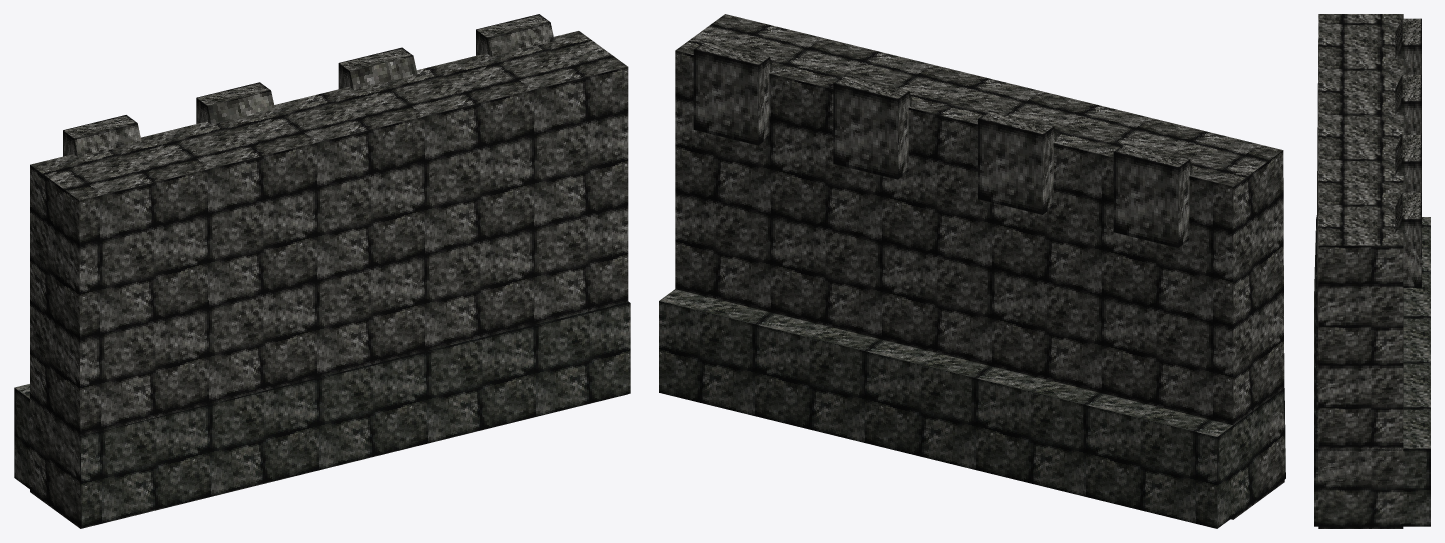
The model's file is StoneWall05.obj.
The picture shows the model from 3 angles, left to right: view 1: azimuth 30°, elevation 25°; view 2: azimuth 150°, elevation 25°; view 3: azimuth 270°, elevation 25°; orthographic projection. The views are drawn at different scales.
Visible parts, largest first — view 1: Mesh_0, Mesh_1; view 2: Mesh_0, Mesh_1; view 3: Mesh_0, Mesh_1.
Boxes of the visible parts, x1,y1,x2,y2 form: Mesh_0: [30, 14, 628, 528]; Mesh_1: [14, 301, 630, 527]; Mesh_0: [675, 14, 1284, 519]; Mesh_1: [659, 289, 1285, 528]; Mesh_0: [1316, 14, 1421, 528]; Mesh_1: [1314, 217, 1430, 526].
Size of the model in its own units: 3.98 by 2.38 by 0.8489.
Materials: 2 (2 with a texture image).
